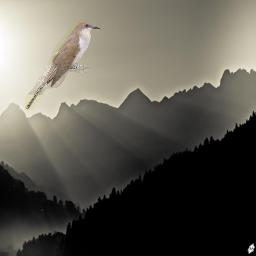Cuckoo: (25, 21, 101, 110)
